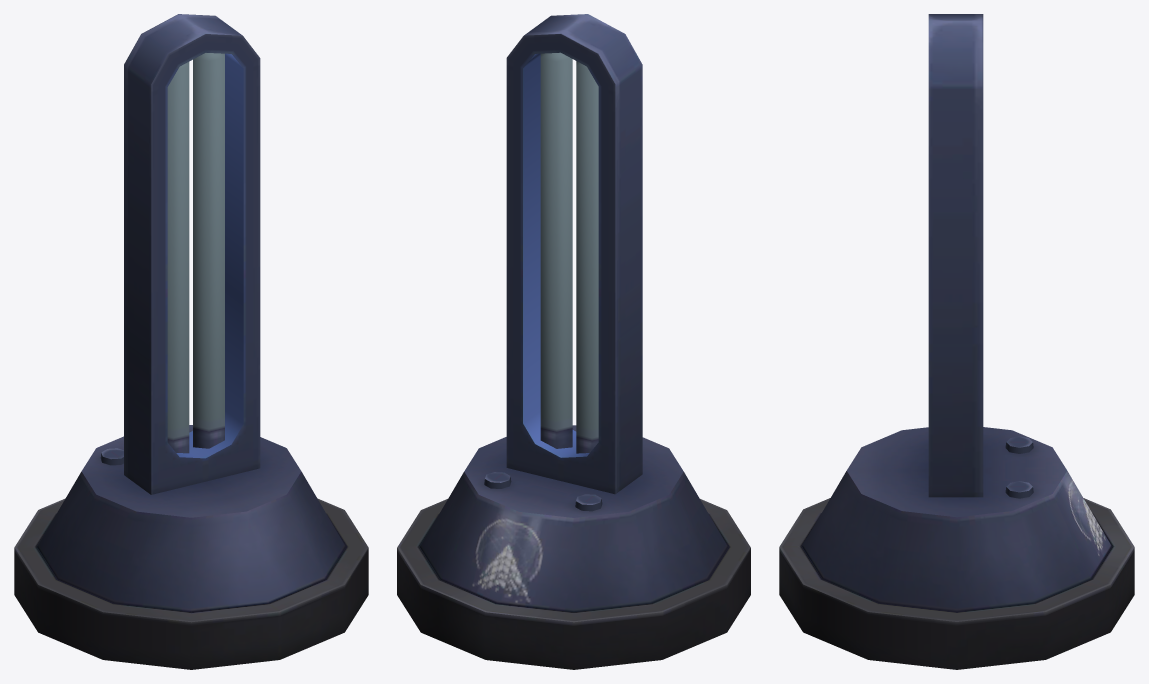
File: furn_sef2022_deco_03.gltf
3 views of the same model, side by side, from view 1: azimuth 30°, elevation 25°; view 2: azimuth 150°, elevation 25°; view 3: azimuth 270°, elevation 25° (orthographic).
Parts seen in each view (by area): view 1: sef2022_deco_03; view 2: sef2022_deco_03; view 3: sef2022_deco_03.
Part boxes in pixels (x1,y1,x2,y2): sef2022_deco_03: [14, 14, 368, 669]; sef2022_deco_03: [397, 14, 750, 669]; sef2022_deco_03: [779, 14, 1134, 669].
Bounding box in the file's own units: 0.3018 × 0.5376 × 0.3018.
1 material, 1 textured.
